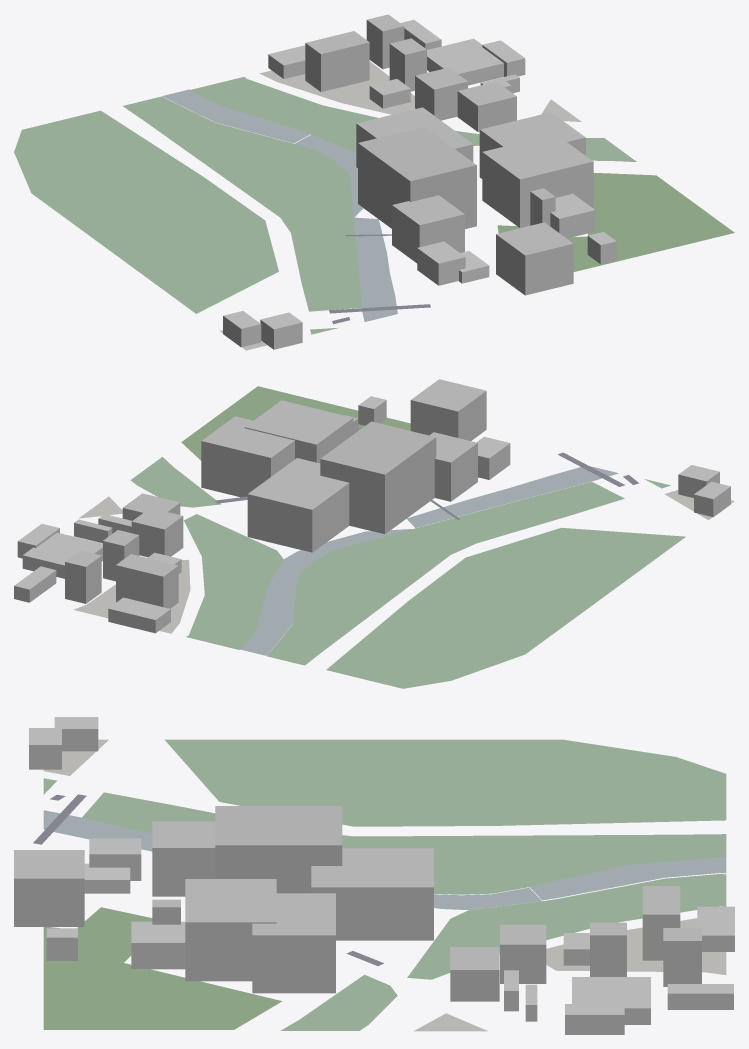
File: 131_100_mid.glb
3 views of the same model, one above another, from view 1: azimuth 30°, elevation 25°; view 2: azimuth 150°, elevation 25°; view 3: azimuth 270°, elevation 25° (orthographic). The views are drawn at different scales.
Bounding box in the file's own units: 506 × 61.15 × 528.
